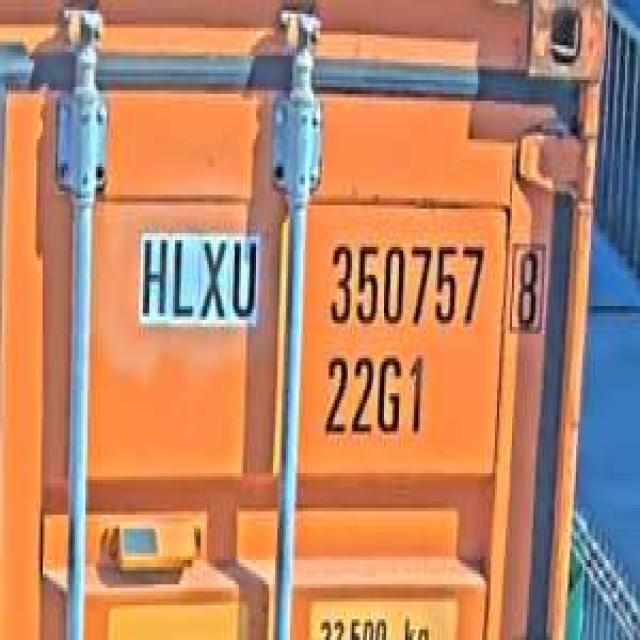dv: (502, 230, 548, 338)
owner: (134, 226, 260, 327)
serial: (322, 229, 489, 334)
size: (320, 344, 429, 446)
